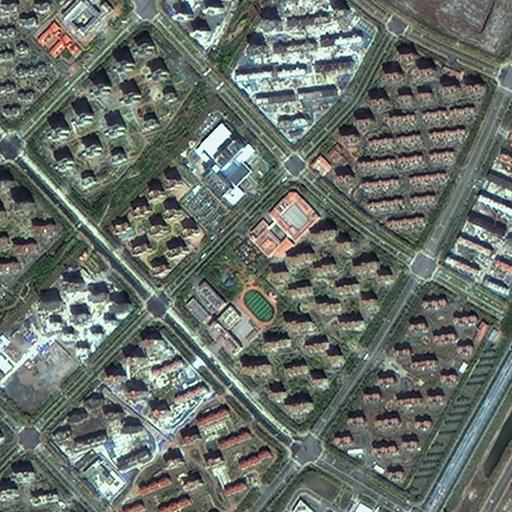school: (205, 282, 283, 359)
